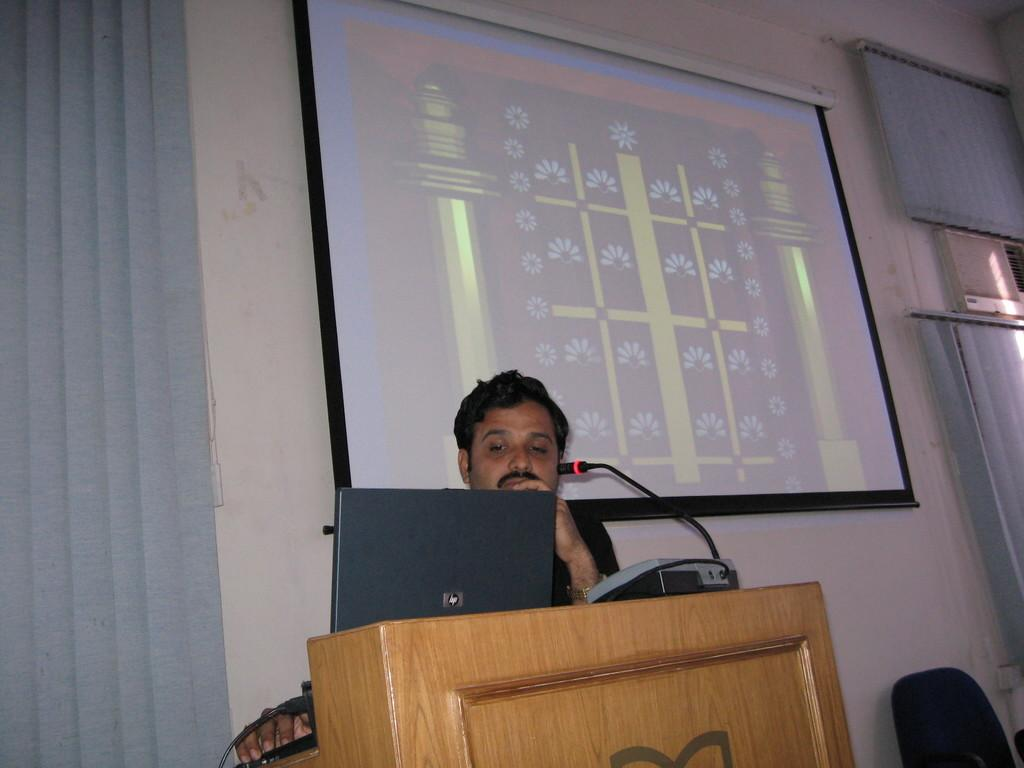Chair: (890, 666, 1020, 767)
